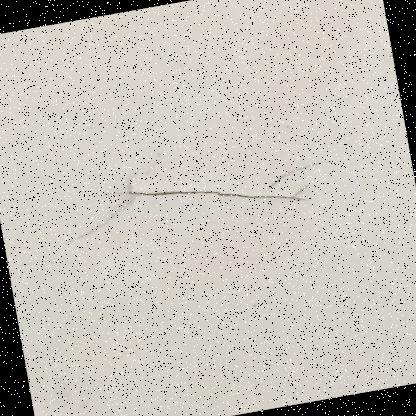Crack: (20, 114, 348, 269), (356, 44, 393, 73)
